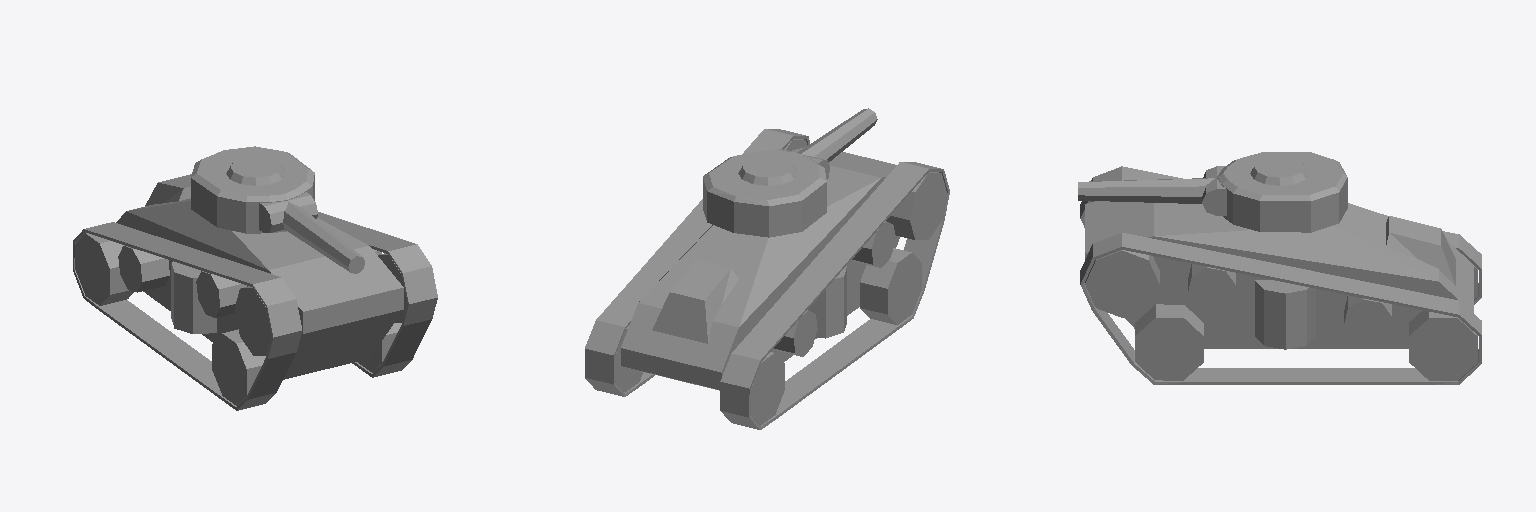
File: Tank_2.obj
The picture shows the model from 3 angles: view 1: azimuth 30°, elevation 25°; view 2: azimuth 150°, elevation 25°; view 3: azimuth 270°, elevation 25°; orthographic projection.
Parts seen in each view (by area): view 1: Cube.005, Cube.001_Cube.013; view 2: Cube.005, Cube.001_Cube.013; view 3: Cube.005, Cube.001_Cube.013.
Boxes of the visible parts, box(x1,y1,x2,y2) form: Cube.005: box(73, 174, 437, 410); Cube.001_Cube.013: box(191, 146, 364, 273); Cube.005: box(585, 129, 949, 429); Cube.001_Cube.013: box(703, 108, 877, 237); Cube.005: box(1080, 166, 1481, 384); Cube.001_Cube.013: box(1078, 152, 1347, 232).
Bounding box in the file's own units: 0.9398 × 0.9714 × 2.